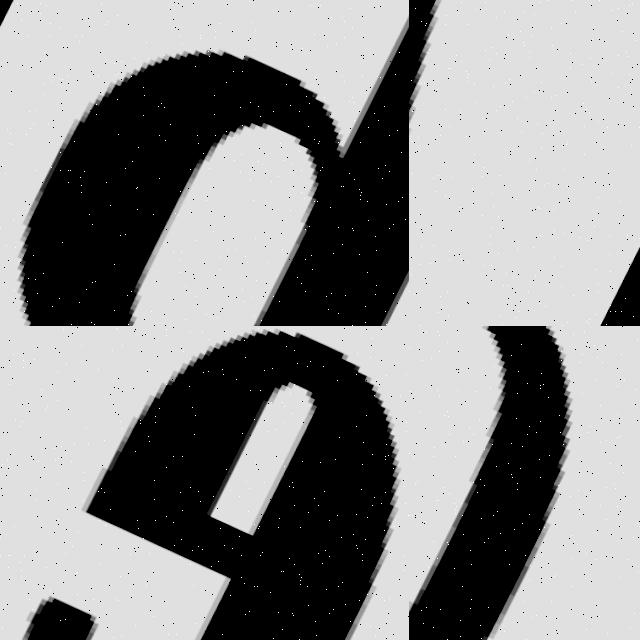0: (409, 326, 640, 640)
B: (27, 14, 409, 326)
E: (85, 326, 402, 640)
L: (409, 0, 575, 326)
